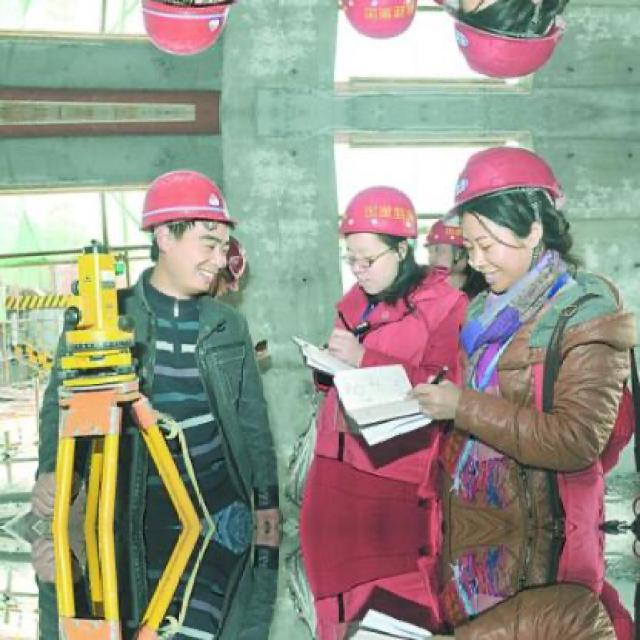con casco: (441, 153, 568, 261), (331, 188, 456, 290), (154, 184, 249, 312)
